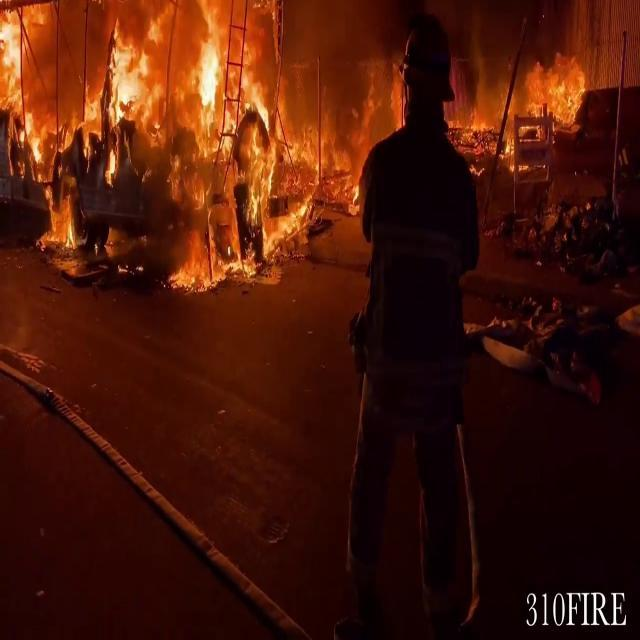Fire: (2, 1, 406, 276), (486, 48, 592, 166)
